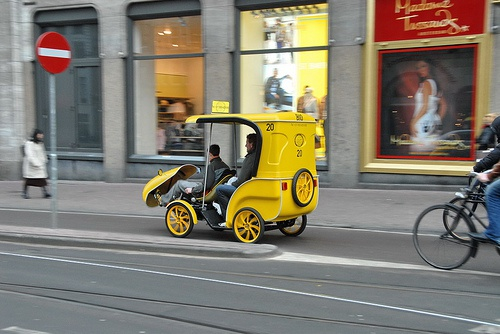non-vehicle: (415, 170, 489, 267), (448, 175, 492, 232)
